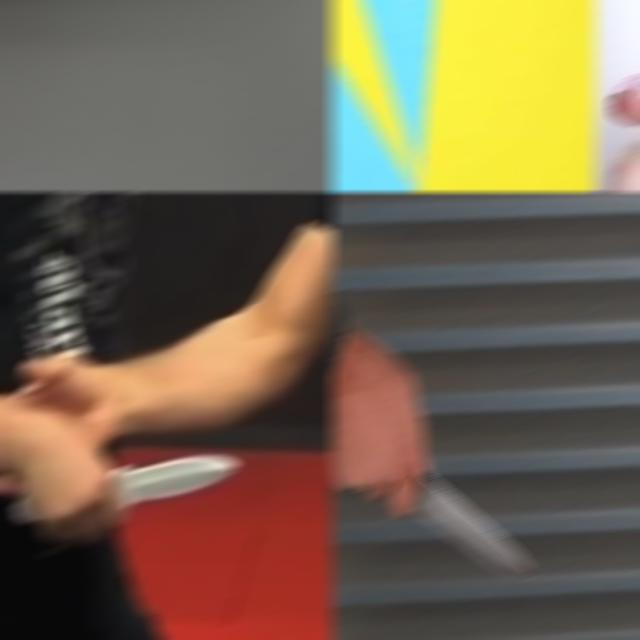Knife: (412, 470, 538, 578), (112, 454, 238, 518)
Knife_Handle: (330, 389, 554, 576), (6, 445, 236, 537)
